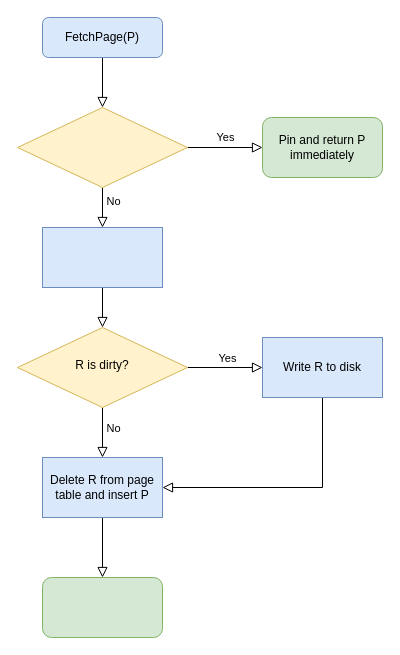
This 400x655 diagram has some shape labels left out. Here are the shapes that lost their labels. From the top down, the centre of each, then its label:
At (102,147): "Page P exsits in page table?".
At (102,257): "Find a replacement page R".
At (102,607): "Pin and return P".
